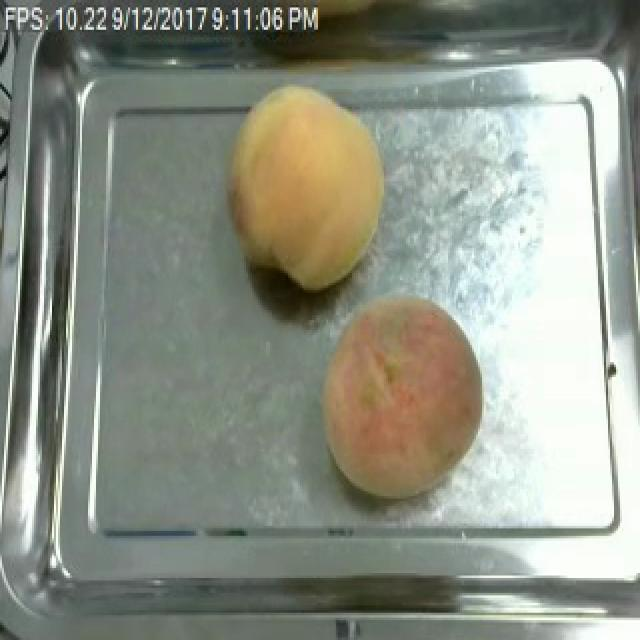Fruit: (216, 80, 394, 300), (312, 290, 490, 504)
